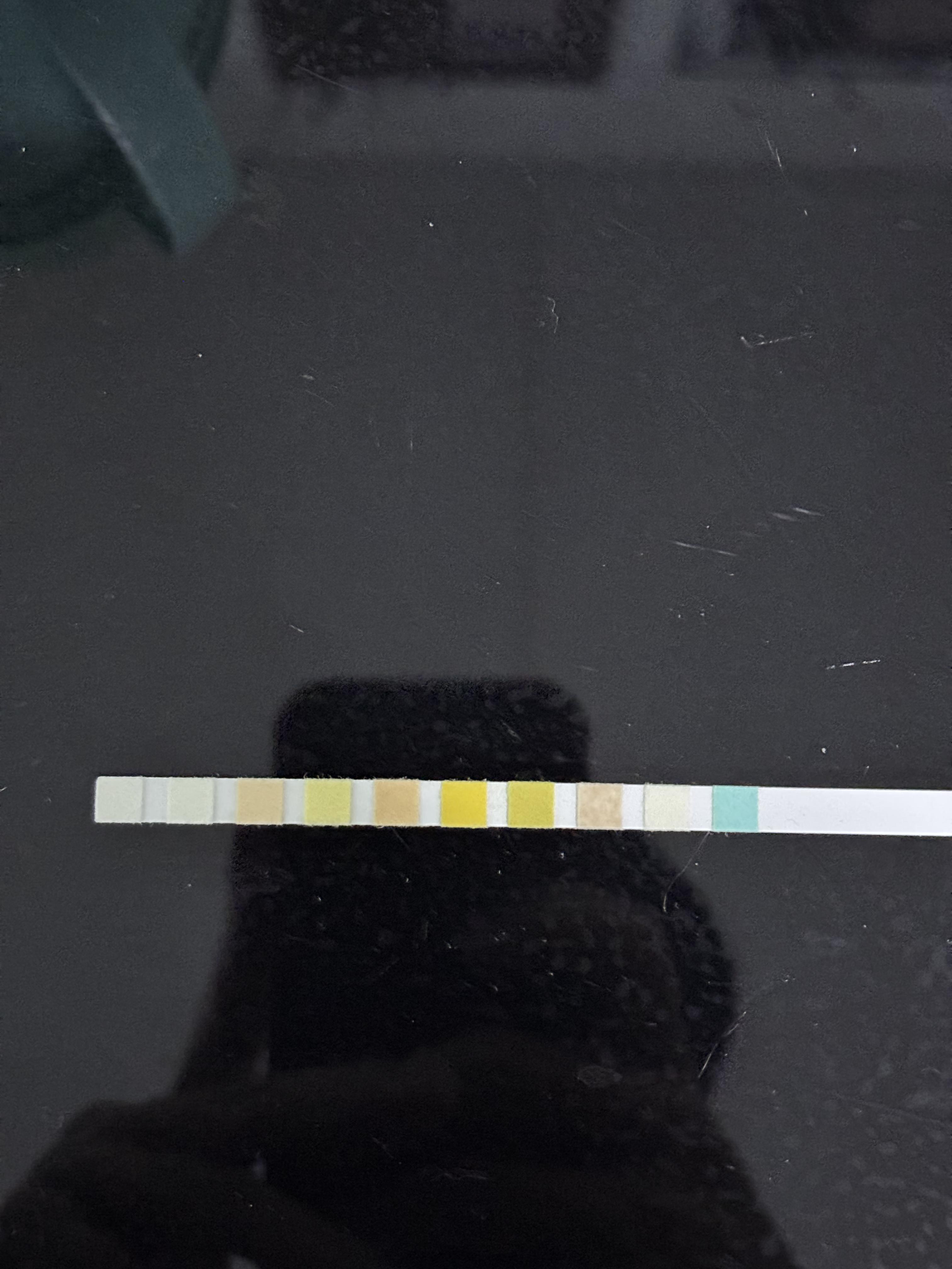Bilirubin: (647, 785, 689, 829)
Blood: (444, 782, 486, 826)
Glucose: (715, 787, 757, 830)
Ketone: (580, 785, 621, 828)
Leukocytes: (99, 777, 141, 821)
Nitrite: (170, 780, 213, 823)
Protein: (308, 781, 349, 824)
SpGravity: (510, 783, 553, 826)
Urobilinogen: (239, 780, 281, 823)
pH: (376, 781, 418, 824)
strip: (94, 777, 951, 837)
